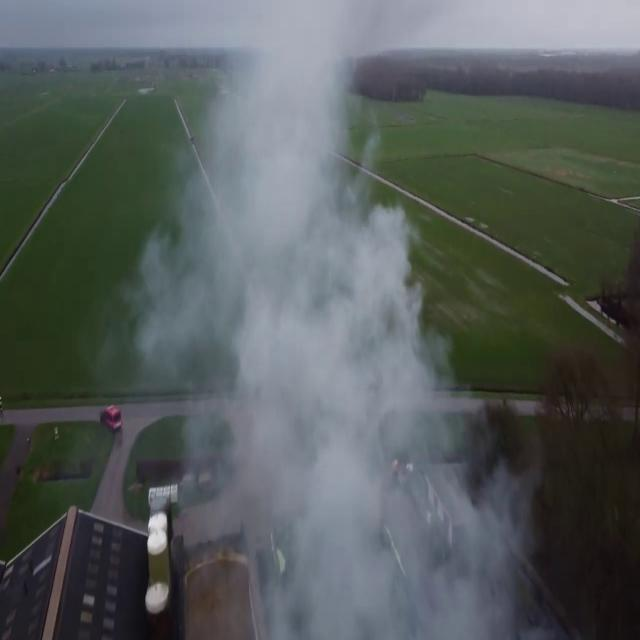Smoke: (129, 0, 533, 638)
